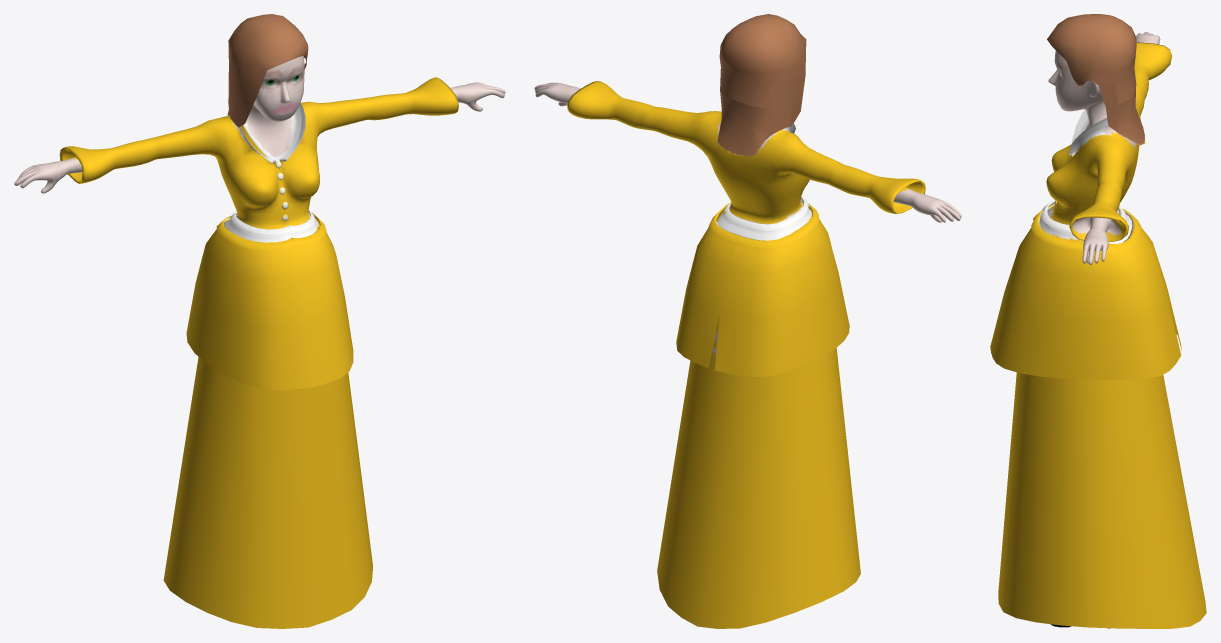
The model's file is Ines.fbx.
The picture shows the model from 3 angles, left to right: view 1: azimuth 30°, elevation 25°; view 2: azimuth 150°, elevation 25°; view 3: azimuth 270°, elevation 25°; orthographic projection. The views are drawn at different scales.
Parts seen in each view (by area): view 1: node_id60 (×2); view 2: node_id60 (×2); view 3: node_id60 (×2).
Part boxes in pixels (bbox=[...]): node_id60 (×2): bbox=[14, 14, 505, 628]; node_id60 (×2): bbox=[534, 14, 961, 628]; node_id60 (×2): bbox=[990, 14, 1206, 628].
Size of the model in its own units: 624 by 755 by 248.
Materials: 1 (1 with a texture image).
